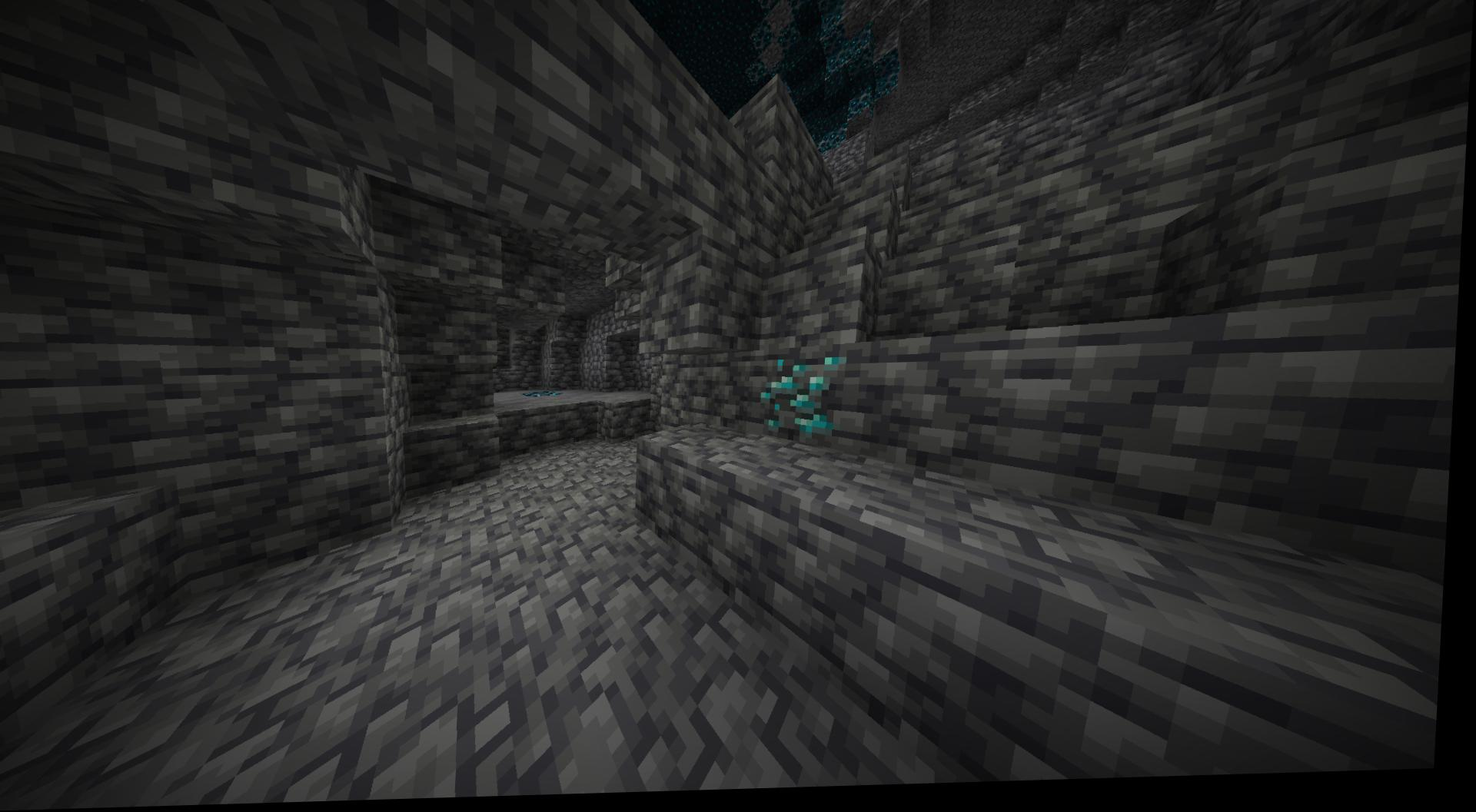diamond ore: (759, 355, 853, 446)
